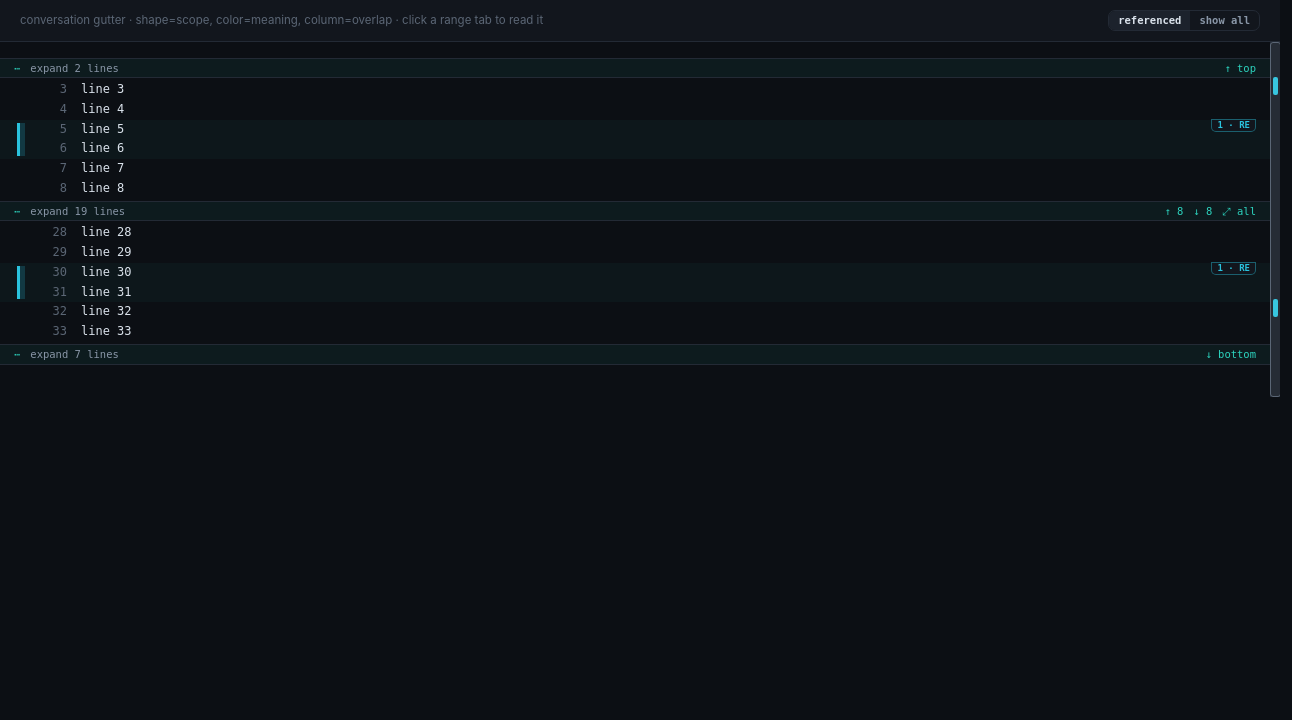
Test: CodeLens — piece 11 Phase 3: PR-style collapse › a middle gap has all three buttons (↑8, ↓8, ⤢all) and ↑8 reveals exactly 8 lines from the top, shrinking the fold
Check: the number of elements with test id "fold-row" is 3, box [0,58,1270,78]; [0,201,1270,221]; [0,344,1270,365]
Check: the button with test id "fold-expand-down" reads "↓ 8", box [1193,206,1212,216]
Step 1. Click the button with test id "fold-expand-up" → (1174, 211), box [1164,206,1183,216]
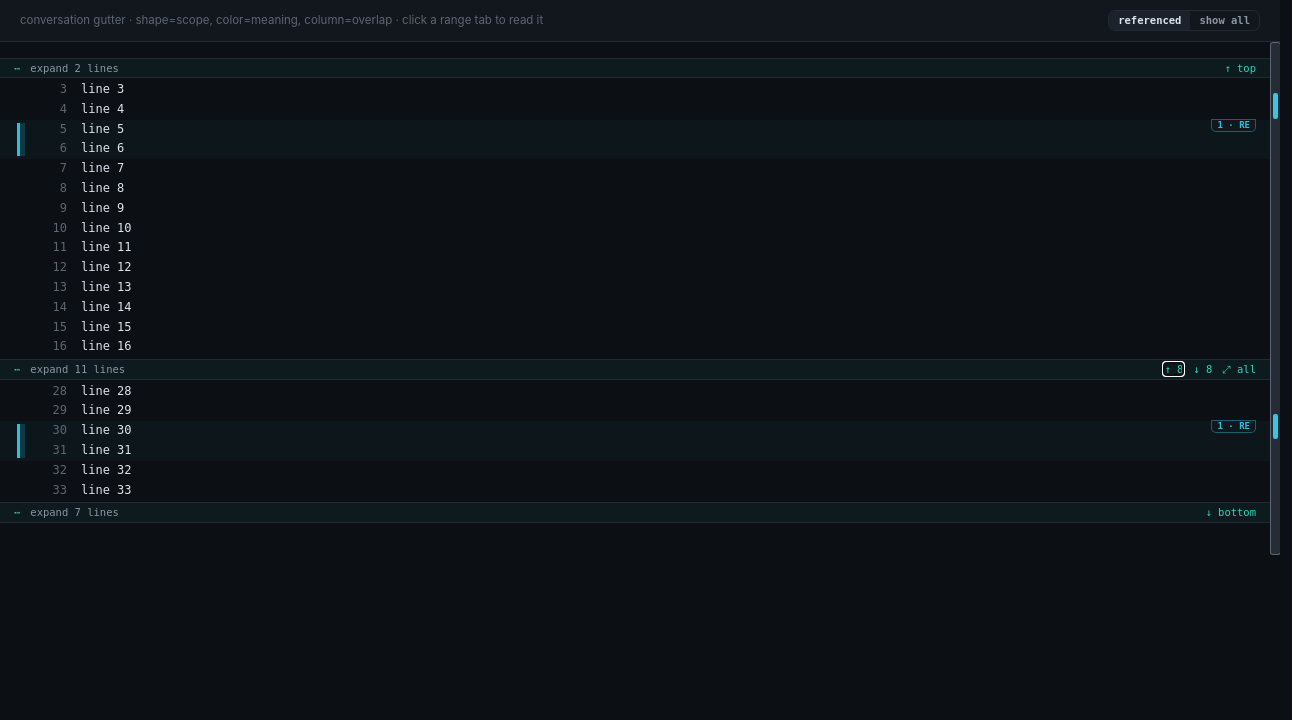
Check: the number of elements with test id "fold-row" is 3, box [0,58,1270,78]; [0,359,1270,380]; [0,502,1270,523]
Check: the element with test id "fold-row" shows "expand 11 lines", box [30,363,125,375]
